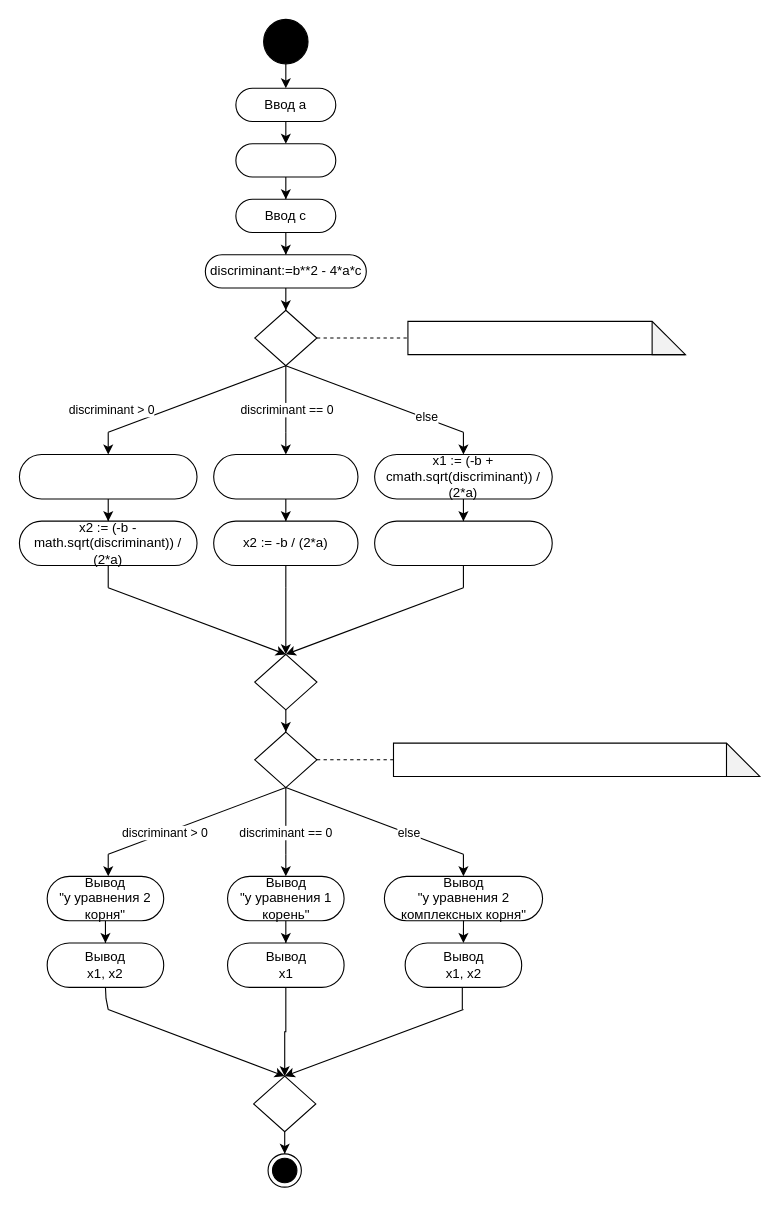
Image size: 779x1207. Some labels were removed from this diagram. Each missing label, with the centre of its shape:
"x1 := (-b + math.sqrt(discriminant)) / (2*a)" belongs at point 107,476.
"x1 := -b / (2*a)" belongs at point 285,476.
"x2 := (-b - cmath.sqrt(discriminant)) / (2*a)" belongs at point 463,543.
"Ввод b" belongs at point 285,160.
"Вывод результатов в зависимости от корней" belongs at point 576,759.
"Вычисление корней уравнения в зависимости от дискриминанта" belongs at point 546,337.
